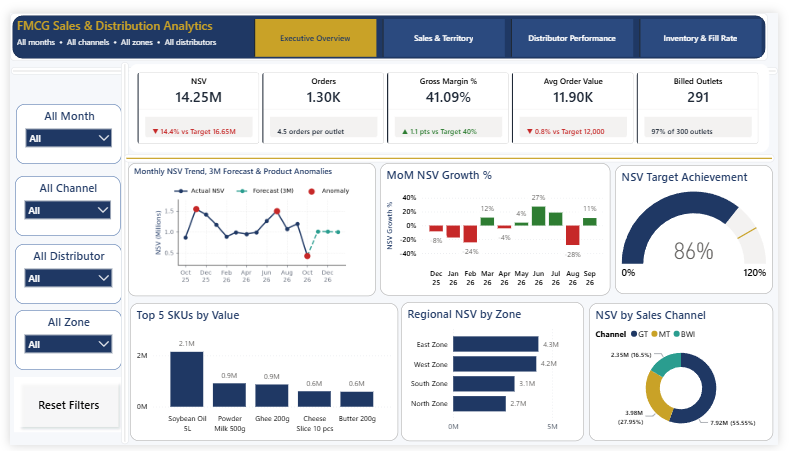

The page's visual inventory and layout, read from the dashboard file:
{"tool":"powerbi","page":{"name":" Executive Overview","canvas":[1280,720],"ordinal":0},"visuals":[{"type":"shape","box":[0,0,1263.3,80],"z":0},{"type":"slicer","title":"All Month","fields":{"Values":["Calendar.Month"]},"box":[9.5,152.4,176.2,100],"z":1000},{"type":"slicer","title":"All Channel","fields":{"Values":["otif_log.channel"]},"box":[7.9,271.4,176.2,100],"z":2000},{"type":"slicer","title":"All Distributor","fields":{"Values":["dim_outlet_route.Distributor Name"]},"box":[7.9,385.7,177.8,100],"z":3000},{"type":"slicer","title":"All Zone","fields":{"Values":["dim_outlet_route.zone"]},"box":[7.9,495.2,177.8,100],"z":4000},{"type":"actionButton","box":[6.3,606.3,182.5,92.1],"z":5000},{"type":"shape","box":[1.7,90,1278.3,13.3],"z":6000},{"type":"shape","box":[185.7,81,12.7,636.5],"z":7000},{"type":"gauge","title":"NSV Target Achievement","fields":{"Y":["M2.NSV Achievement %"]},"box":[1009,253.7,262.7,214.9],"z":8000},{"type":"donutChart","title":"NSV by Sales Channel","fields":{"Category":["dim_outlet_route.channel"],"Y":["_Measures_Sales and Margins.NSV"]},"box":[965,483.3,306.7,230],"z":9000},{"type":"clusteredBarChart","title":"Regional NSV by Zone","fields":{"Y":["_Measures_Sales and Margins.NSV"],"Category":["dim_outlet_route.zone"]},"box":[651.7,481.7,305,231.7],"z":10000},{"type":"lineClusteredColumnComboChart","title":"MoM NSV Growth %","fields":{"Y":["__Measure_Target and Rep.NSV Growth %"],"Category":["Calendar.MonthLabel"]},"box":[616.4,250.7,383.6,220.9],"z":11000},{"type":"clusteredColumnChart","title":"Top 5 SKUs by Value","fields":{"Category":["dim_product.name"],"Y":["_Measures_Sales and Margins.Net Sales Delivered"]},"box":[199.5,482.9,446.7,229.9],"z":12000},{"type":"shape","box":[189.4,234.2,1084.3,14.5],"z":13000},{"type":"cardVisual","fields":{"Data":["_Measures_Sales and Margins.NSV","_Measures_Sales and Margins.Orders","_Measures_Sales and Margins.Gross Margin %","_Measures_Sales and Margins.Avg Order Value","_Measures_Sales and Margins.Billed Outlets"]},"box":[198.1,85.3,1067,147.5],"z":14000},{"type":"shape","box":[11.7,6.7,381.7,58.3],"z":15000},{"type":"pageNavigator","box":[406.7,10,848.3,63.3],"z":16000},{"type":"pythonVisual","title":"Monthly NSV Trend, 3M Forecast & Product Anomalies","fields":{"Values":["Calendar.Month Start Date","_Measures_Sales and Margins.NSV"]},"box":[197,250.7,413.4,222.4],"z":17000}]}

Visuals, with their boxes in screenshot pixels (x1, y1, x2, y2), scaled from the page's 1280x720 canvas onto the 789x451 screenshot:
shape: box=[0, 0, 779, 50]
"All Month" slicer: box=[6, 95, 114, 158]
"All Channel" slicer: box=[5, 170, 113, 233]
"All Distributor" slicer: box=[5, 242, 114, 304]
"All Zone" slicer: box=[5, 310, 114, 373]
actionButton: box=[4, 380, 116, 437]
shape: box=[1, 56, 788, 65]
shape: box=[114, 51, 122, 449]
"NSV Target Achievement" gauge: box=[622, 159, 784, 294]
"NSV by Sales Channel" donutChart: box=[595, 303, 784, 447]
"Regional NSV by Zone" clusteredBarChart: box=[402, 302, 590, 447]
"MoM NSV Growth %" lineClusteredColumnComboChart: box=[380, 157, 616, 295]
"Top 5 SKUs by Value" clusteredColumnChart: box=[123, 302, 398, 446]
shape: box=[117, 147, 785, 156]
cardVisual - _Measures_Sales and Margins.NSV x _Measures_Sales and Margins.Orders: box=[122, 53, 780, 146]
shape: box=[7, 4, 242, 41]
pageNavigator: box=[251, 6, 774, 46]
"Monthly NSV Trend, 3M Forecast & Product Anomalies" pythonVisual: box=[121, 157, 376, 296]
